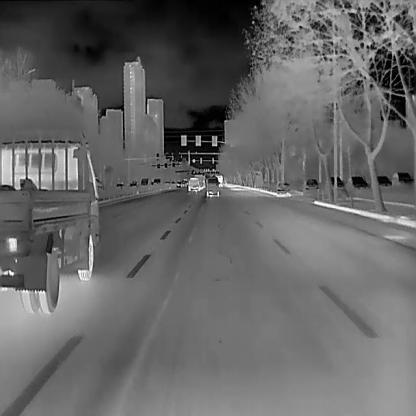car: (0, 128, 112, 313), (205, 175, 220, 196), (348, 175, 370, 188), (392, 171, 413, 184), (187, 177, 200, 192), (303, 177, 318, 189), (330, 176, 345, 188), (276, 181, 291, 193), (376, 175, 389, 186)
